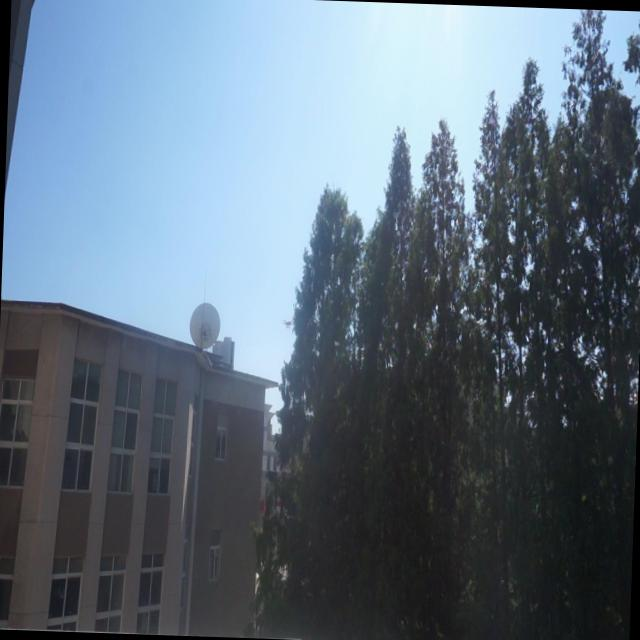drone: (280, 315, 296, 330)
